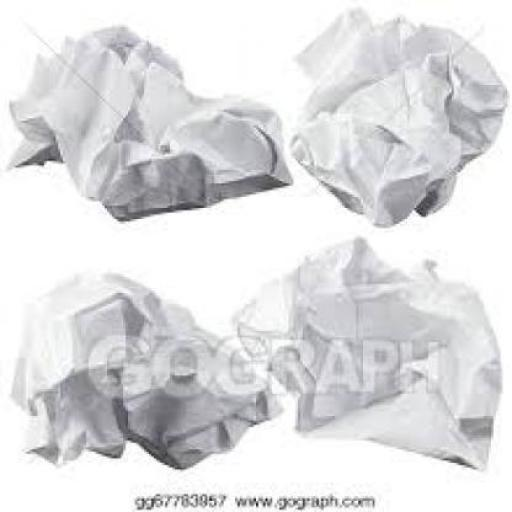paper: (228, 232, 498, 470), (9, 22, 289, 222), (5, 269, 282, 467), (281, 2, 508, 223)
